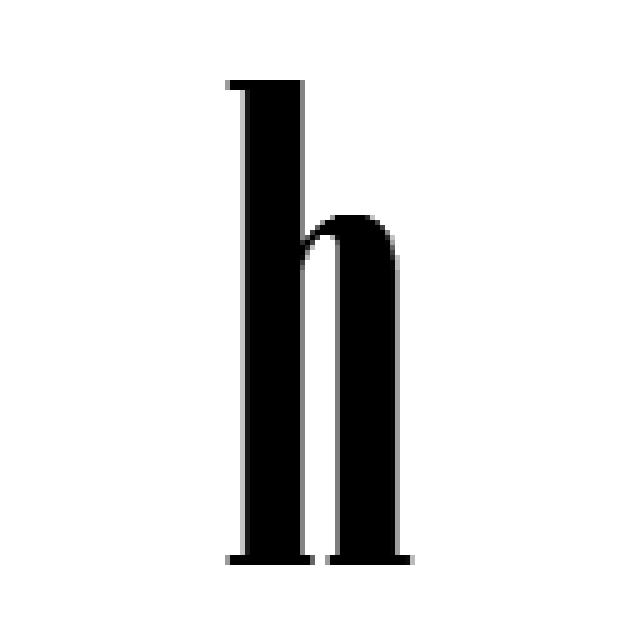H: (225, 80, 405, 570)
